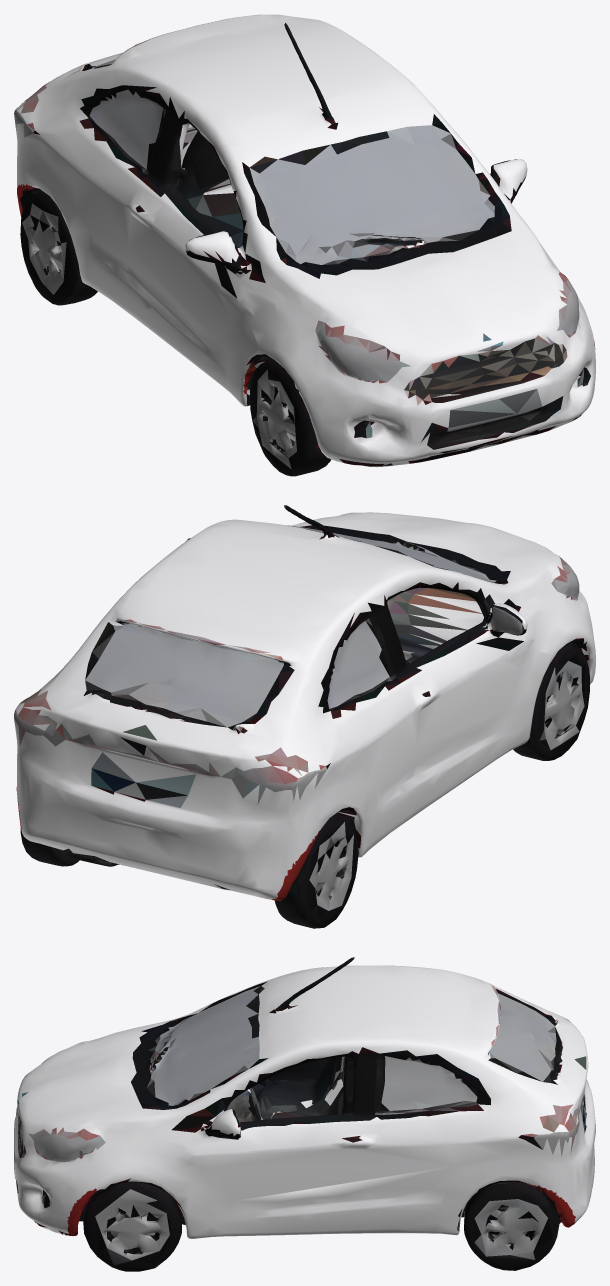
File: aspire.glb
The picture shows the model from 3 angles, top to bottom: view 1: azimuth 30°, elevation 25°; view 2: azimuth 150°, elevation 25°; view 3: azimuth 270°, elevation 25°; orthographic projection. The views are drawn at different scales.
Visible parts, largest first — view 1: Body, figoaspire.002, figoaspire.004; view 2: Body, figoaspire.004, figoaspire.002, figoaspire.003; view 3: Body, figoaspire.001, figoaspire.003.
Part boxes in pixels (box(x1,y1,x2,y2)): Body: box(14, 14, 595, 467); figoaspire.002: box(243, 358, 331, 476); figoaspire.004: box(17, 184, 69, 305); Body: box(14, 505, 595, 899); figoaspire.004: box(260, 817, 356, 928); figoaspire.002: box(513, 643, 589, 760); figoaspire.003: box(16, 787, 79, 866); Body: box(14, 957, 595, 1270); figoaspire.001: box(67, 1182, 171, 1271); figoaspire.003: box(471, 1182, 575, 1270).
Size of the model in its own units: 2.21 by 1.97 by 4.
